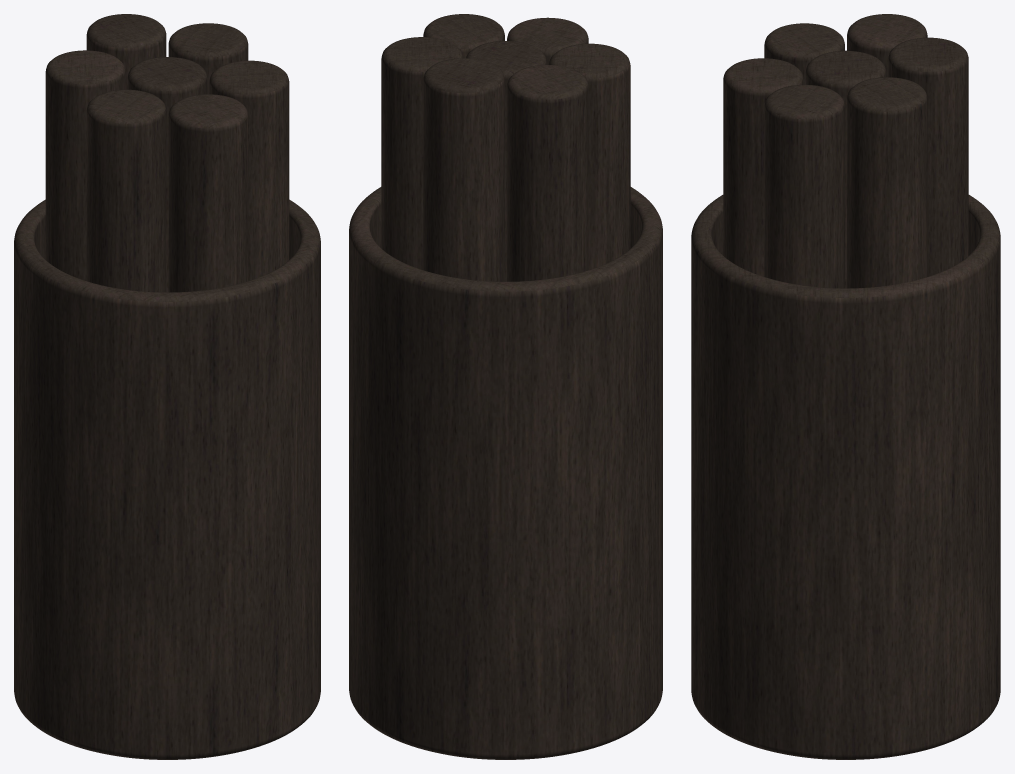
Rendered from king-black-hd.glb.
The picture shows the model from 3 angles, left to right: view 1: azimuth 30°, elevation 25°; view 2: azimuth 150°, elevation 25°; view 3: azimuth 270°, elevation 25°; orthographic projection. The views are drawn at different scales.
Parts seen in each view (by area): view 1: Cylindra_Král_černý; view 2: Cylindra_Král_černý; view 3: Cylindra_Král_černý.
Part boxes in pixels (left/top/right/bottom): Cylindra_Král_černý: left=14, top=14, right=320, bottom=759; Cylindra_Král_černý: left=349, top=14, right=662, bottom=759; Cylindra_Král_černý: left=691, top=14, right=1000, bottom=759.
Bounding box in the file's own units: 0.5347 × 1.23 × 0.5347.
2 materials, 2 textured.
